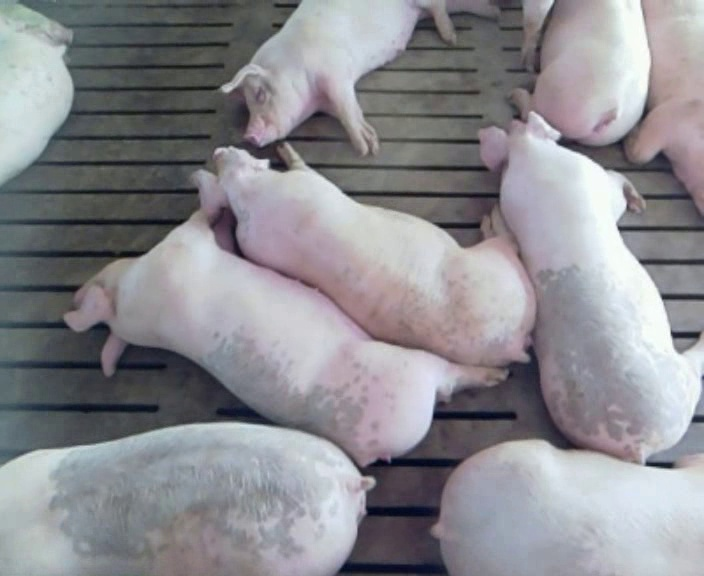pig: (64, 210, 506, 465), (481, 113, 703, 463), (193, 144, 534, 366), (0, 423, 374, 573), (220, 2, 498, 154), (432, 440, 703, 574), (505, 2, 650, 145), (625, 2, 703, 214), (0, 32, 72, 184)
